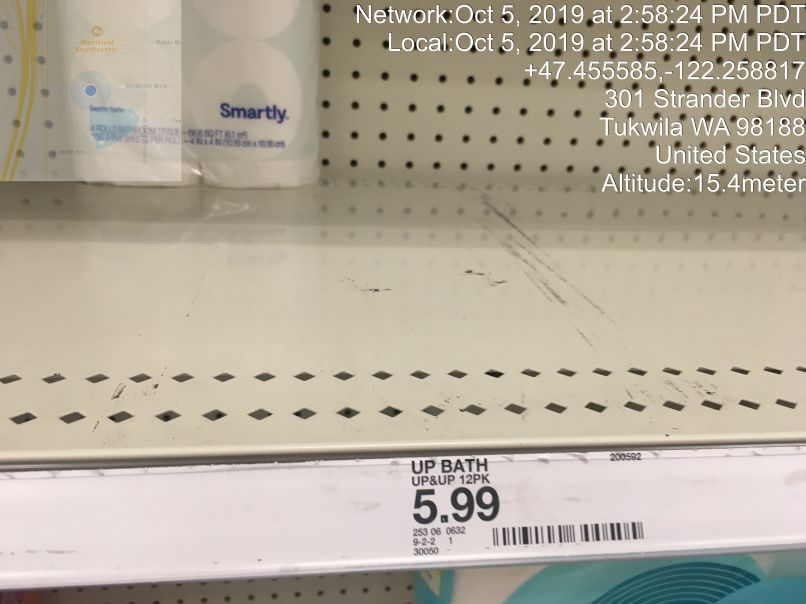Label: (397, 447, 663, 561)
Location: (586, 81, 800, 168)
Time: (352, 3, 806, 57)
Void: (21, 167, 564, 408)
